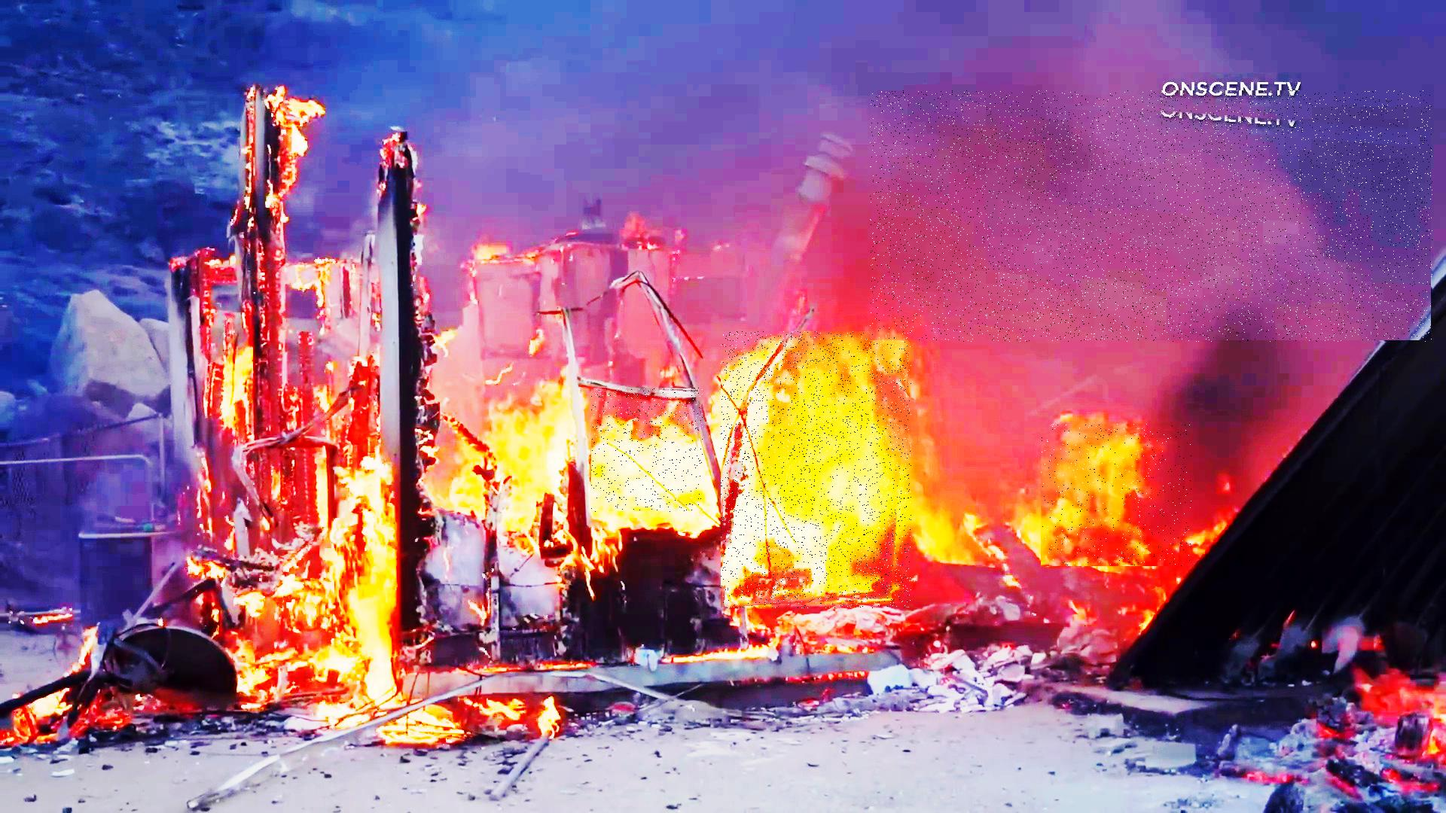fire: (721, 332, 911, 609), (1042, 424, 1192, 566), (591, 388, 703, 513)
smoke: (870, 91, 1433, 342)
